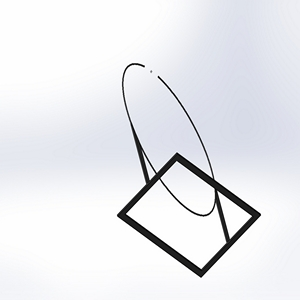circle: (115, 60, 261, 279)
